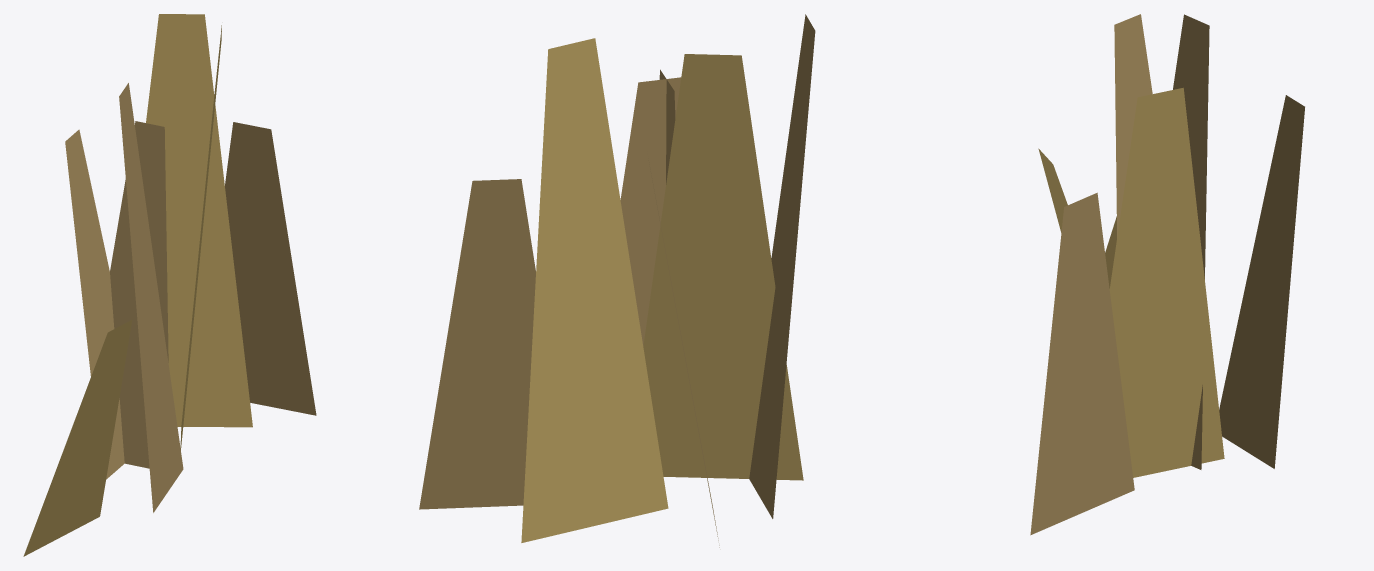
Rendered from shrub.temp.grass__autumn.glb.
3 views of the same model, side by side, from view 1: azimuth 30°, elevation 25°; view 2: azimuth 150°, elevation 25°; view 3: azimuth 270°, elevation 25° (orthographic). The views are drawn at different scales.
Visible parts, largest first — view 1: shrub.temp.grass__autumn; view 2: shrub.temp.grass__autumn; view 3: shrub.temp.grass__autumn.
Boxes of the visible parts, bbox=[...] form: shrub.temp.grass__autumn: bbox=[23, 14, 316, 556]; shrub.temp.grass__autumn: bbox=[419, 14, 815, 547]; shrub.temp.grass__autumn: bbox=[1030, 14, 1304, 535].
Size of the model in its own units: 0.5952 by 0.5961 by 0.4268.
